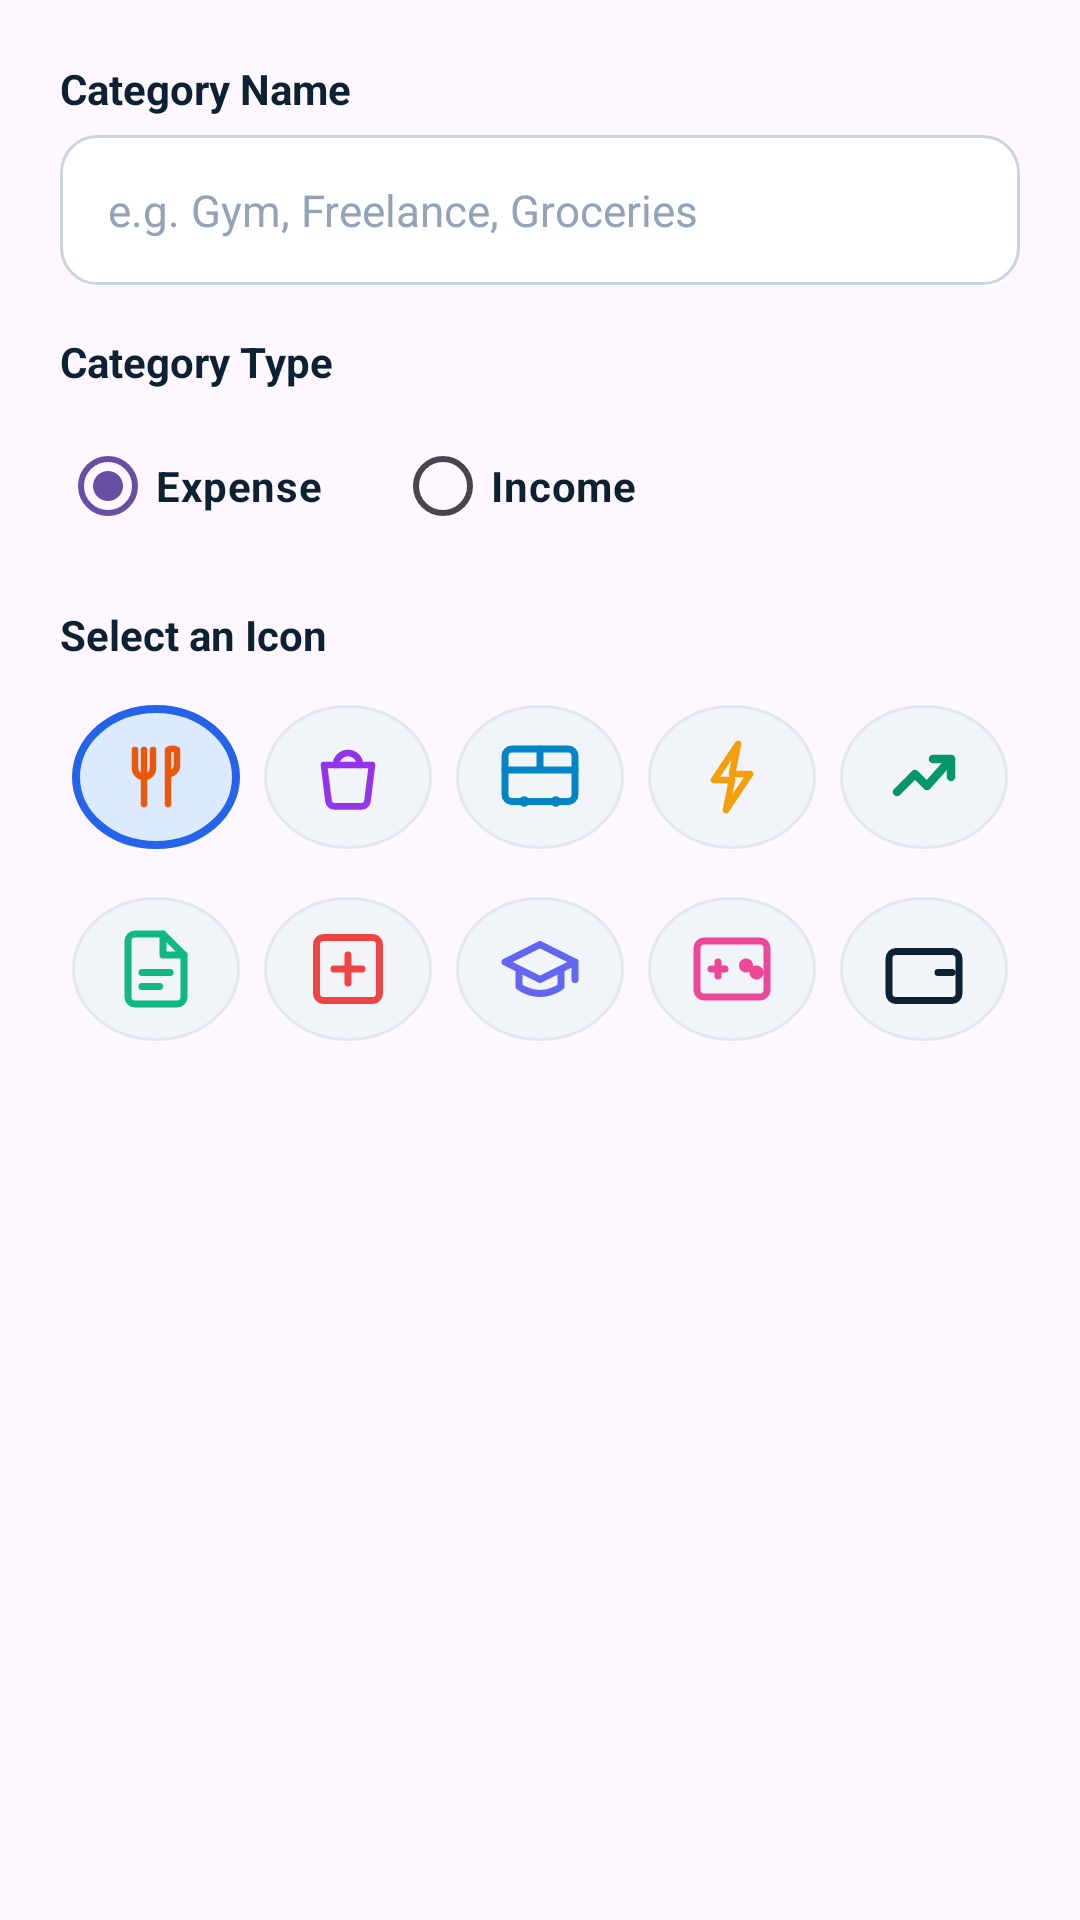

Icons on this 1080 × 1920 Android screen, each with its box as (x1, y1, x2, y2):
category education: (456, 897, 624, 1041)
category entertainment: (648, 897, 816, 1041)
category food: (72, 705, 240, 849)
category freelance: (72, 897, 240, 1041)
category invest: (840, 705, 1008, 849)
category medical: (264, 897, 432, 1041)
category shopping: (264, 705, 432, 849)
category transport: (456, 705, 624, 849)
category utilities: (648, 705, 816, 849)
field wallet: (840, 897, 1008, 1041)
